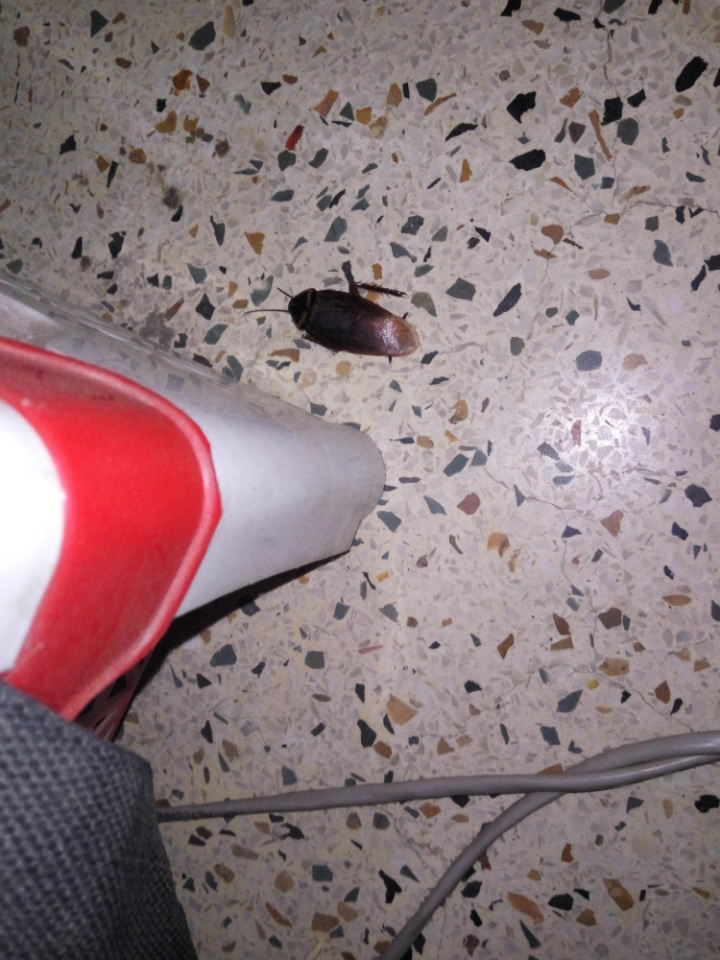cockroach: (197, 235, 463, 387)
